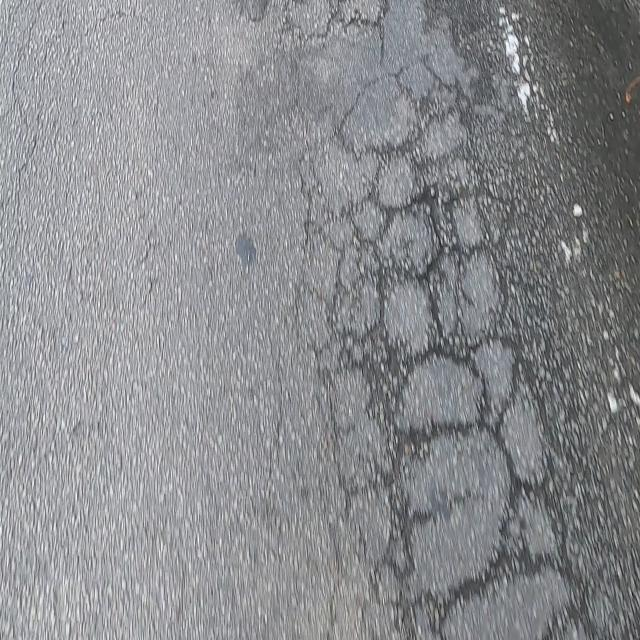Retak-Buaya: (296, 51, 598, 640)
